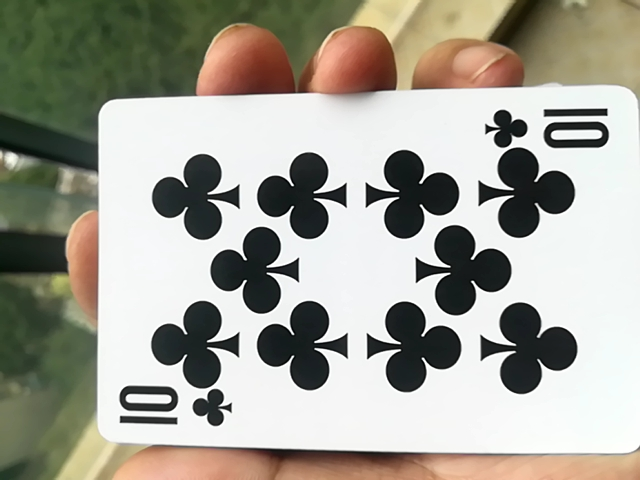mh 10: (89, 111, 635, 467)
